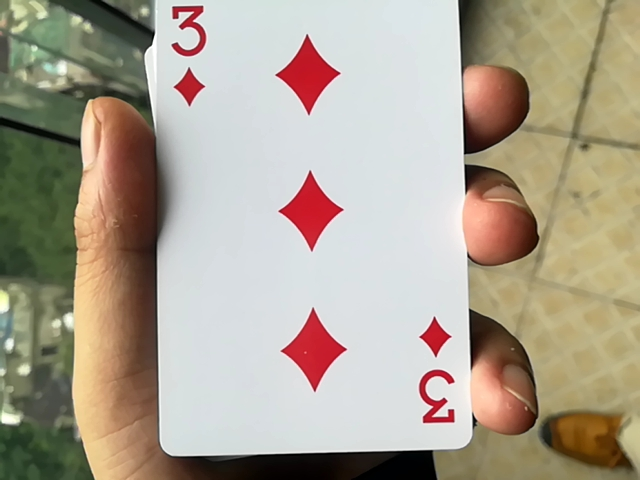fk 3: (136, 1, 477, 458)
